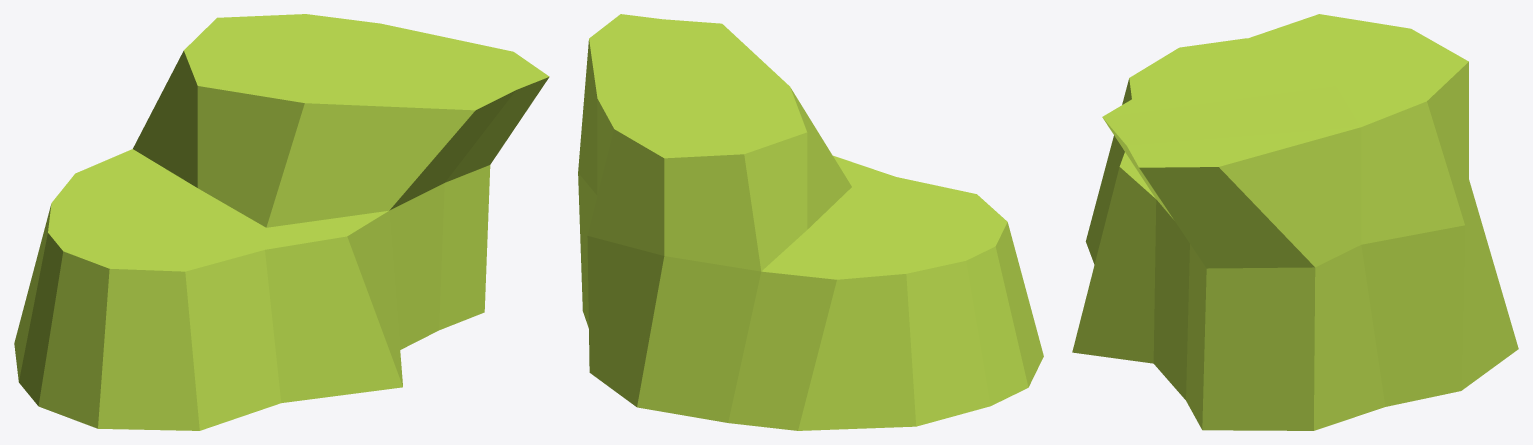
The model's file is Isle_Island_Finish.glb.
3 renders of one model, left to right at view 1: azimuth 30°, elevation 25°; view 2: azimuth 150°, elevation 25°; view 3: azimuth 270°, elevation 25°, orthographic. The views are drawn at different scales.
Visible parts, largest first — view 1: Ground.003; view 2: Ground.003; view 3: Ground.003.
Part boxes in pixels (x1=…): Ground.003: x1=14, y1=14, x2=549, y2=430; Ground.003: x1=578, y1=14, x2=1043, y2=430; Ground.003: x1=1072, y1=14, x2=1518, y2=430.
Bounding box in the file's own units: 81.59 × 41.05 × 58.52.
